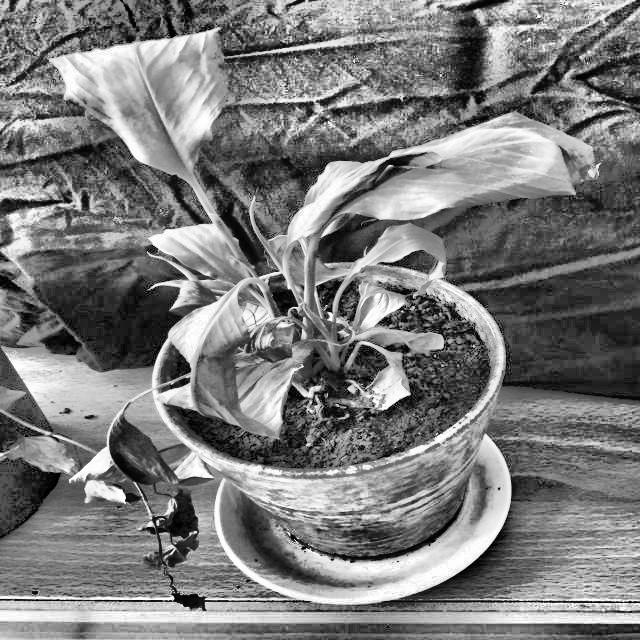plants: (51, 29, 604, 604), (293, 100, 619, 421), (2, 283, 270, 629), (38, 22, 277, 278)
